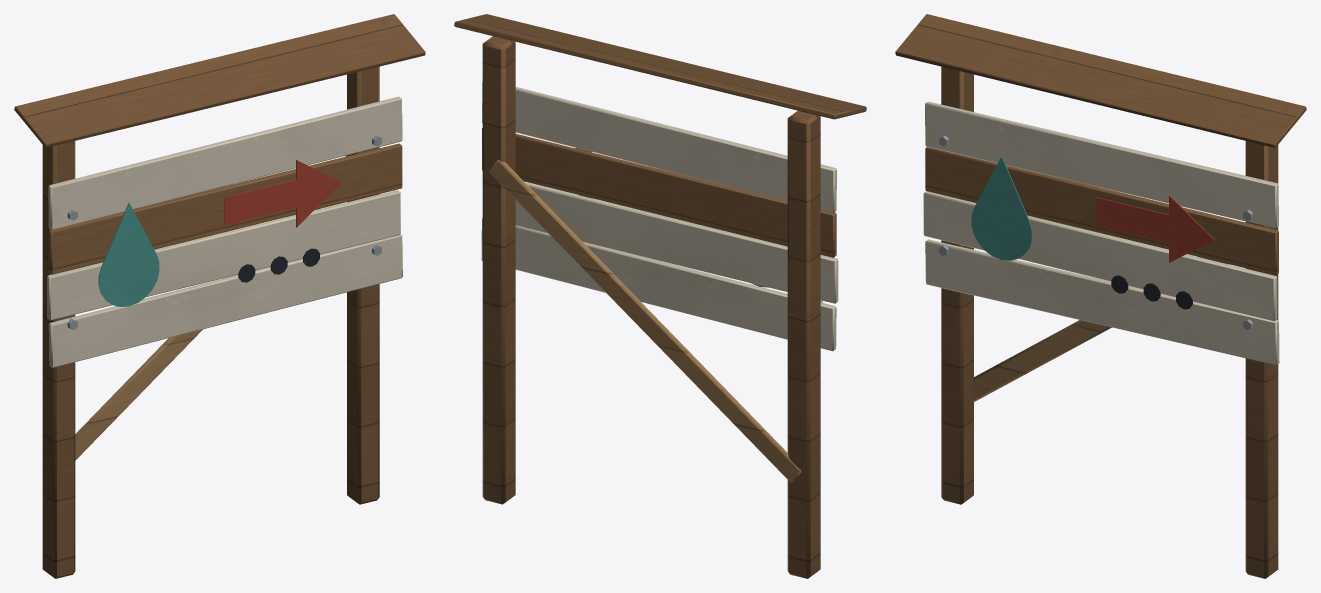
The model's file is signboard_painted.glb.
3 views of the same model, side by side, from view 1: azimuth 30°, elevation 25°; view 2: azimuth 150°, elevation 25°; view 3: azimuth 330°, elevation 25° (orthographic).
Parts seen in each view (by area): view 1: signboard_painted; view 2: signboard_painted; view 3: signboard_painted.
Boxes of the visible parts, x1,y1,x2,y2 form: signboard_painted: (14,14,425,578); signboard_painted: (454,14,866,578); signboard_painted: (895,14,1306,578).
Size of the model in its own units: 2 by 2.37 by 0.2937.
Materials: 9 (9 with a texture image).
